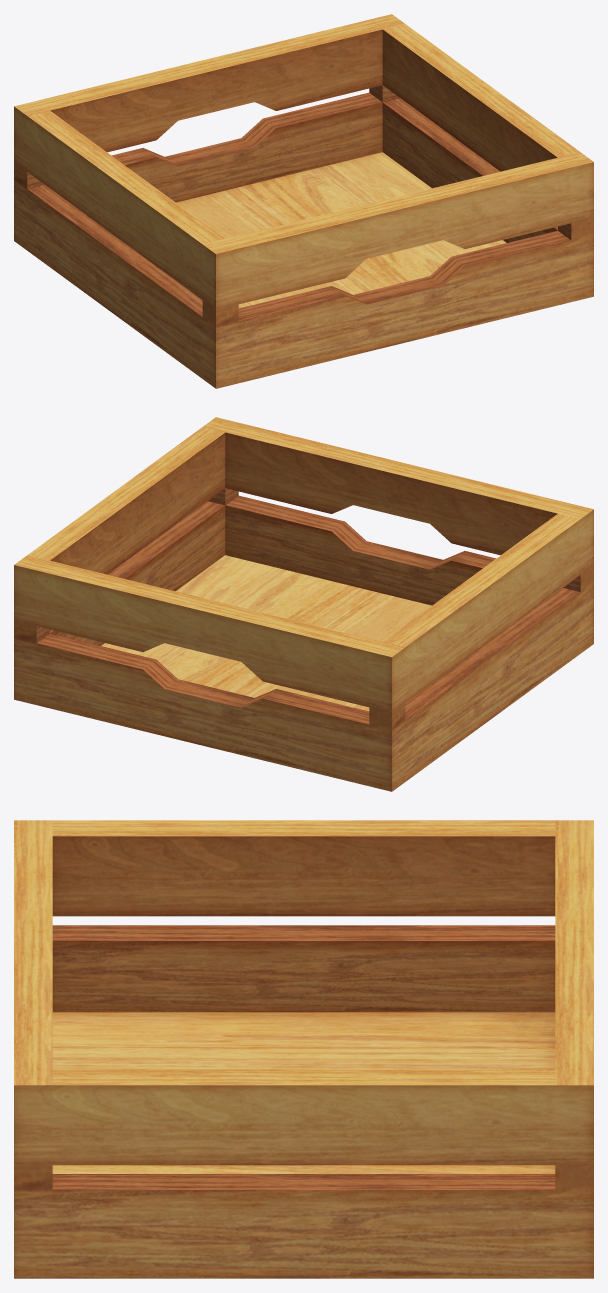
File: WoodCrate_Small.fbx
3 views of the same model, one above another, from view 1: azimuth 30°, elevation 25°; view 2: azimuth 150°, elevation 25°; view 3: azimuth 270°, elevation 25° (orthographic). The views are drawn at different scales.
Visible parts, largest first — view 1: WoodCrate_Small; view 2: WoodCrate_Small; view 3: WoodCrate_Small.
Boxes of the visible parts, x1,y1,x2,y2 form: WoodCrate_Small: (14,14,593,388); WoodCrate_Small: (14,417,593,791); WoodCrate_Small: (14,820,593,1278).
Size of the model in its own units: 122 by 41.37 by 113.
Materials: 1 (1 with a texture image).
